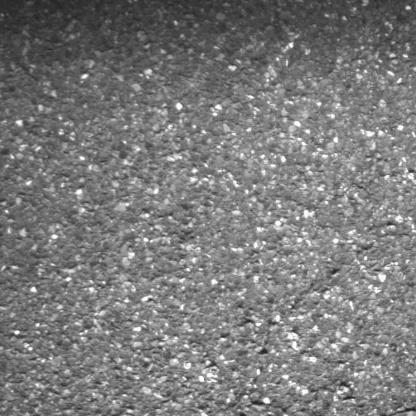Cracks: (317, 400, 416, 416)
